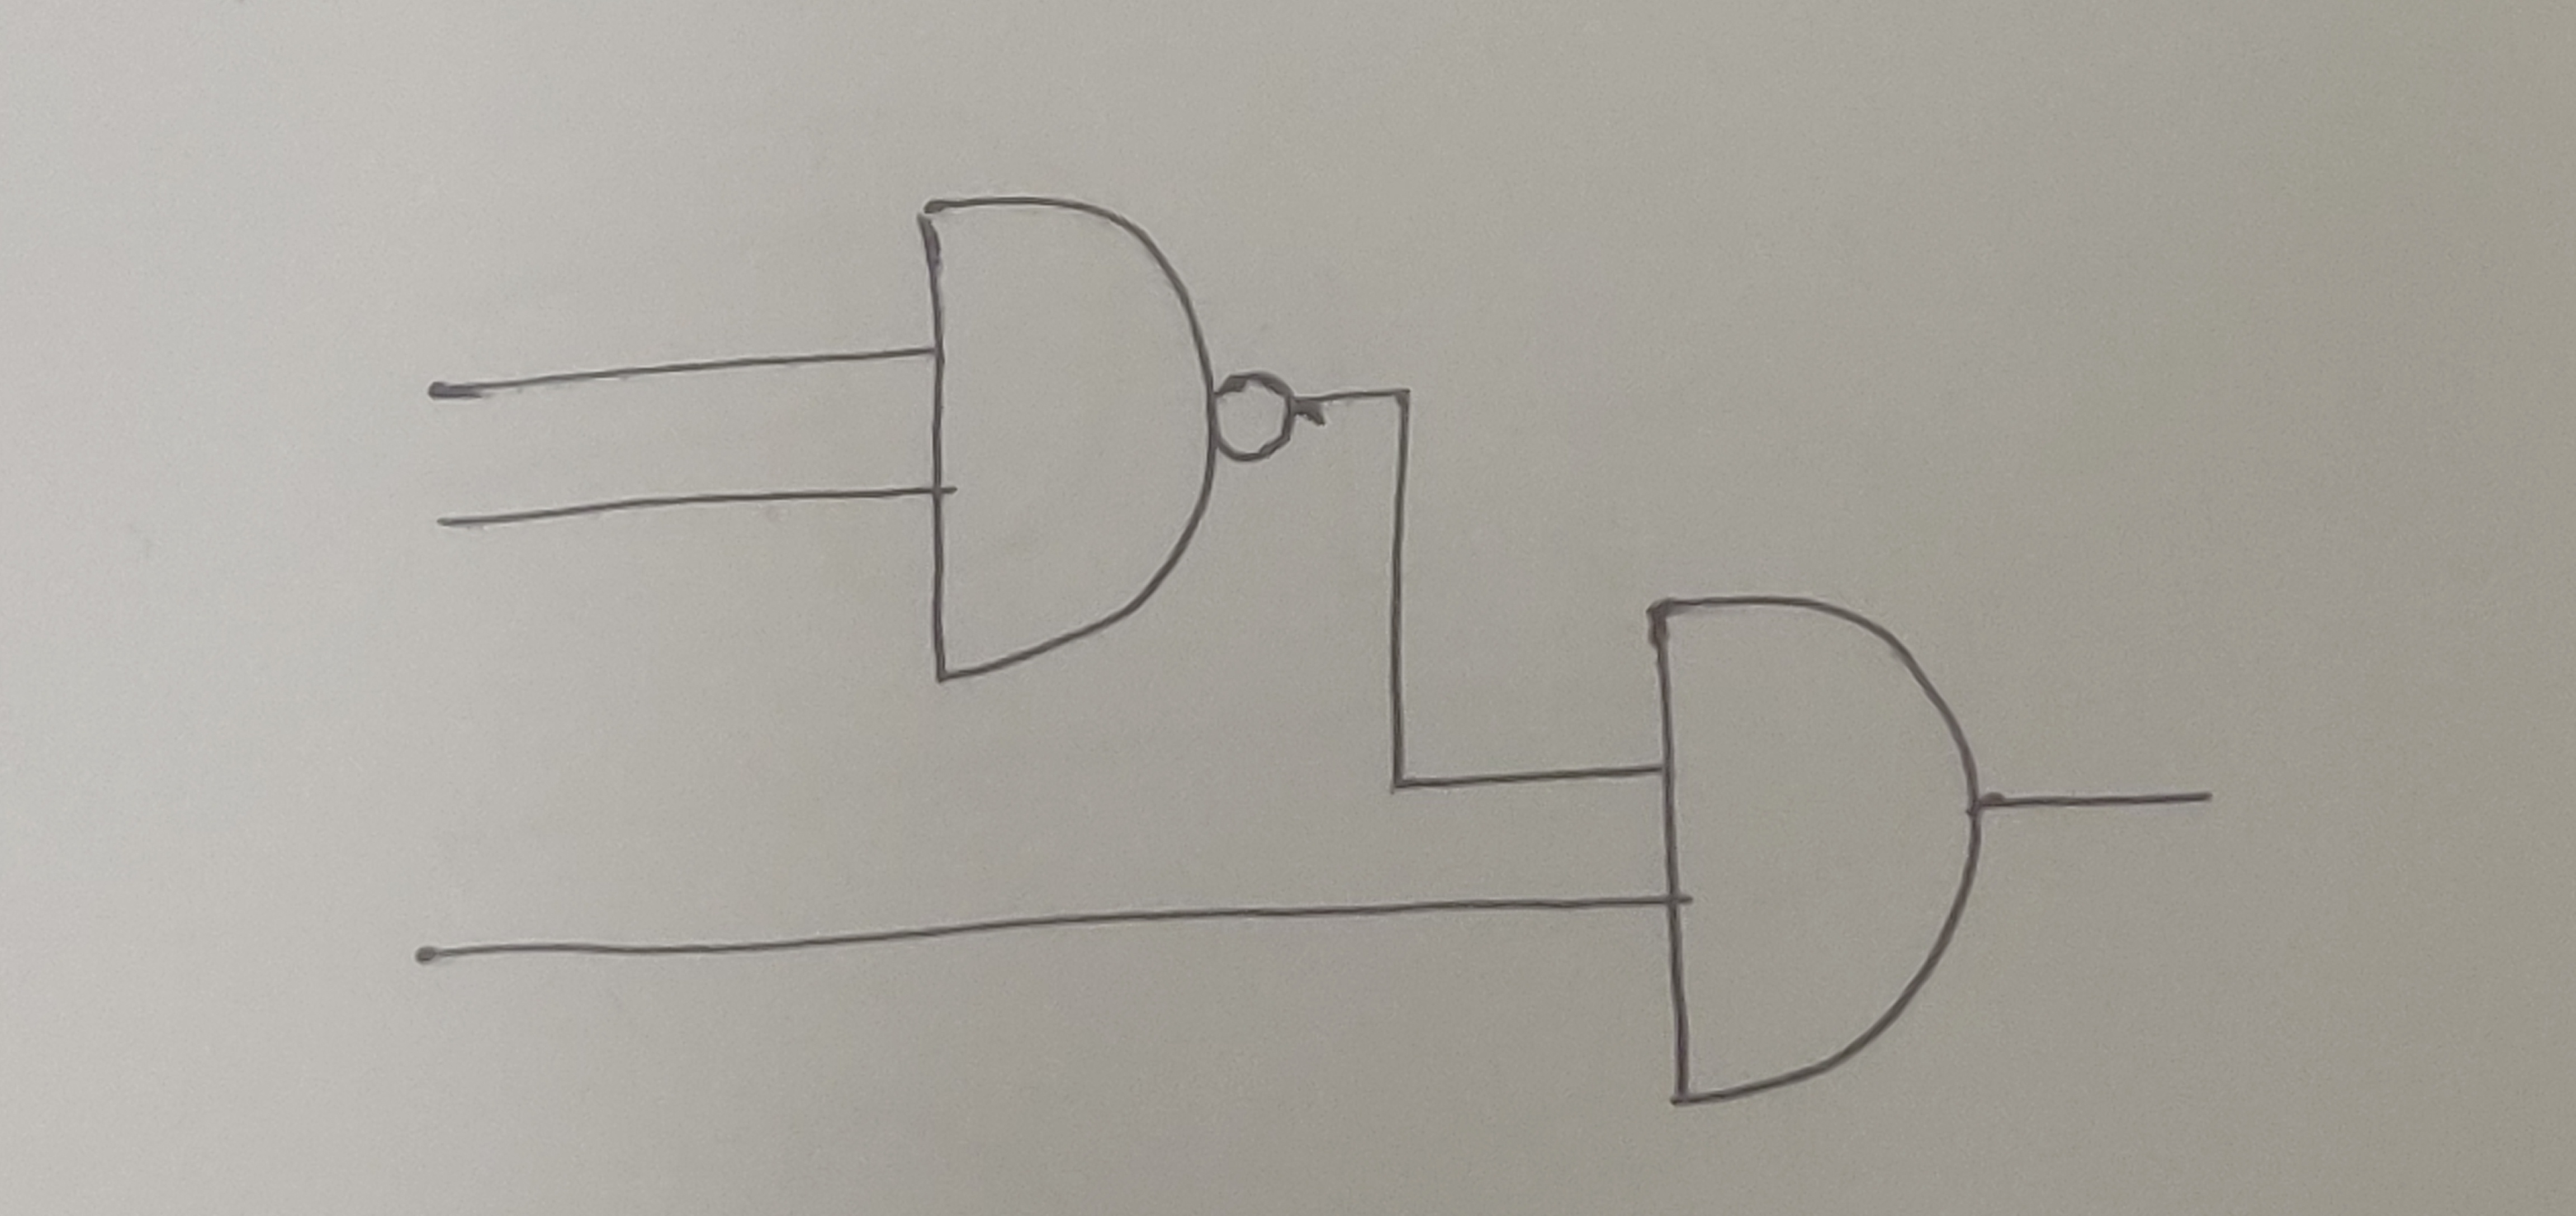and: (1643, 595, 1985, 1108), (913, 194, 1222, 687)
not: (1209, 358, 1301, 470)
